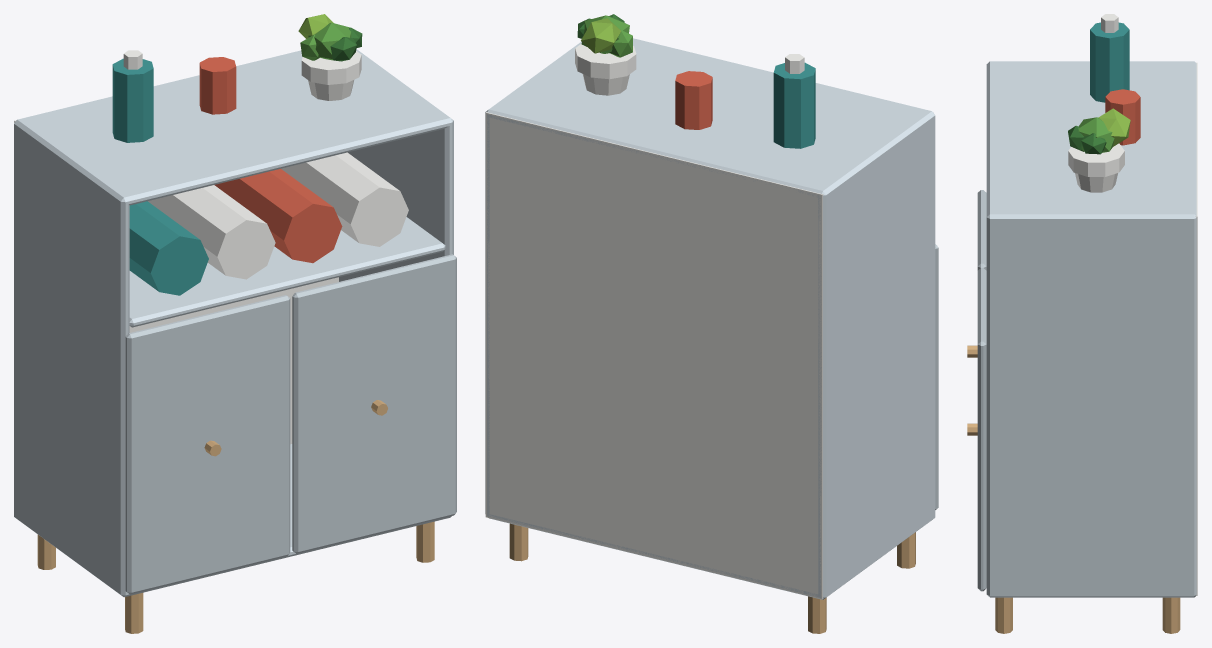
The model's file is bathroom_cabinet.glb.
The picture shows the model from 3 angles, left to right: view 1: azimuth 30°, elevation 25°; view 2: azimuth 150°, elevation 25°; view 3: azimuth 270°, elevation 25°; orthographic projection. The views are drawn at different scales.
Parts seen in each view (by area): view 1: bathroom_cabinet_Body; view 2: bathroom_cabinet_Body; view 3: bathroom_cabinet_Body.
Part boxes in pixels (box(x1,y1,x2,y2)): bathroom_cabinet_Body: box(14, 14, 456, 633); bathroom_cabinet_Body: box(485, 14, 938, 633); bathroom_cabinet_Body: box(967, 14, 1197, 633).
Bounding box in the file's own units: 0.8 × 1.2 × 0.5.
